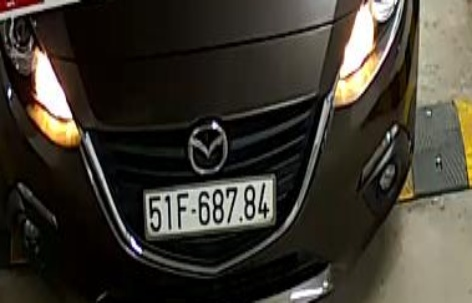plate: (128, 171, 287, 247)
